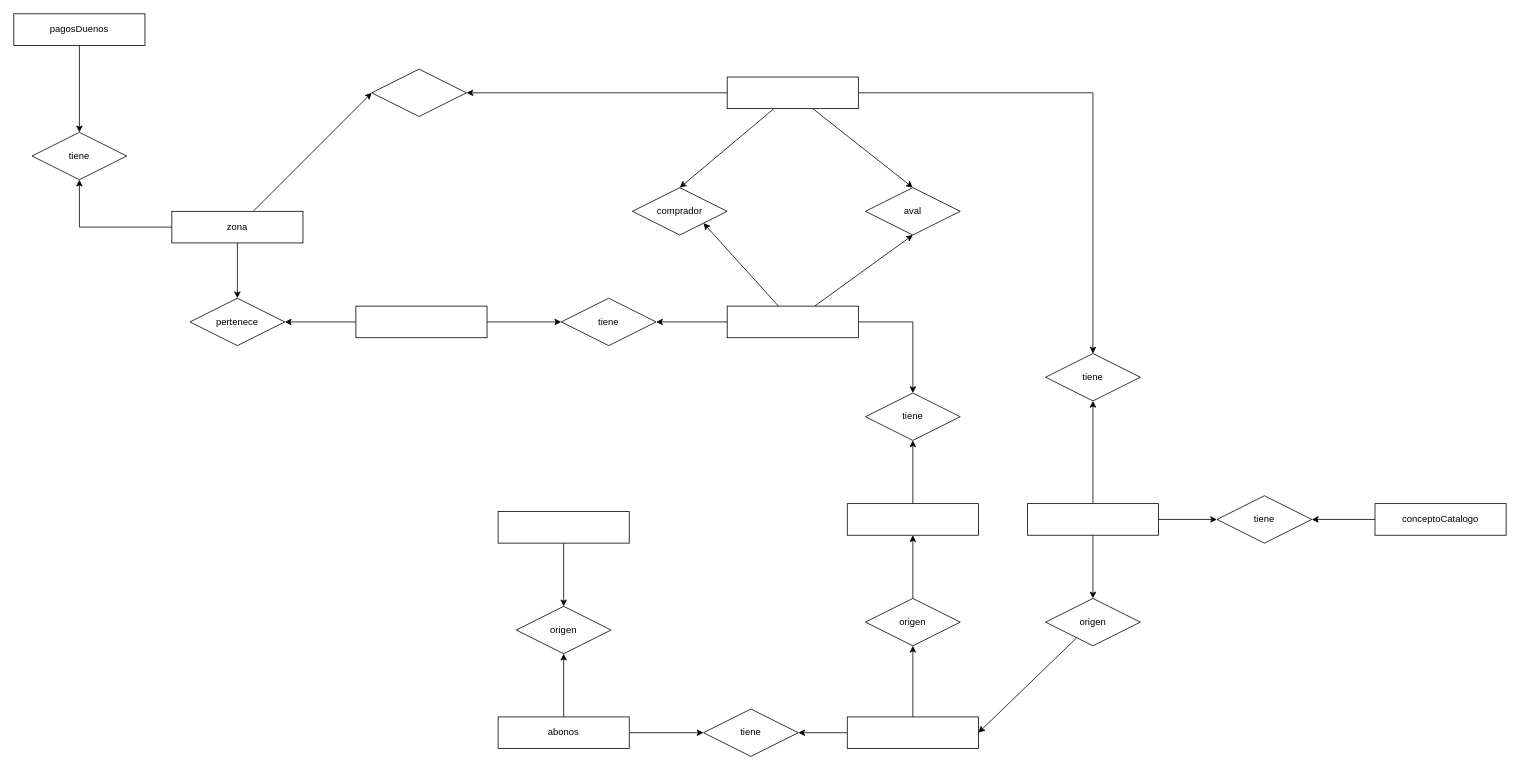
This 1520x770 diagram has some shape labels left out. The centre of each missing label's shape, as x and y in pixels:
"cargoDirecto" goes at point (1093, 519).
"cargos" goes at point (912, 732).
"dueño" goes at point (418, 92).
"letras" goes at point (912, 519).
"pago" goes at point (563, 527).
"persona" goes at point (792, 92).
"predio" goes at point (421, 321).
"venta" goes at point (792, 321).
